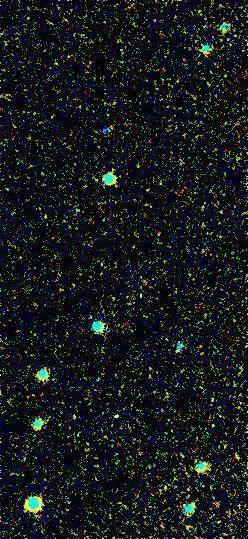star: (107, 409, 137, 439)
